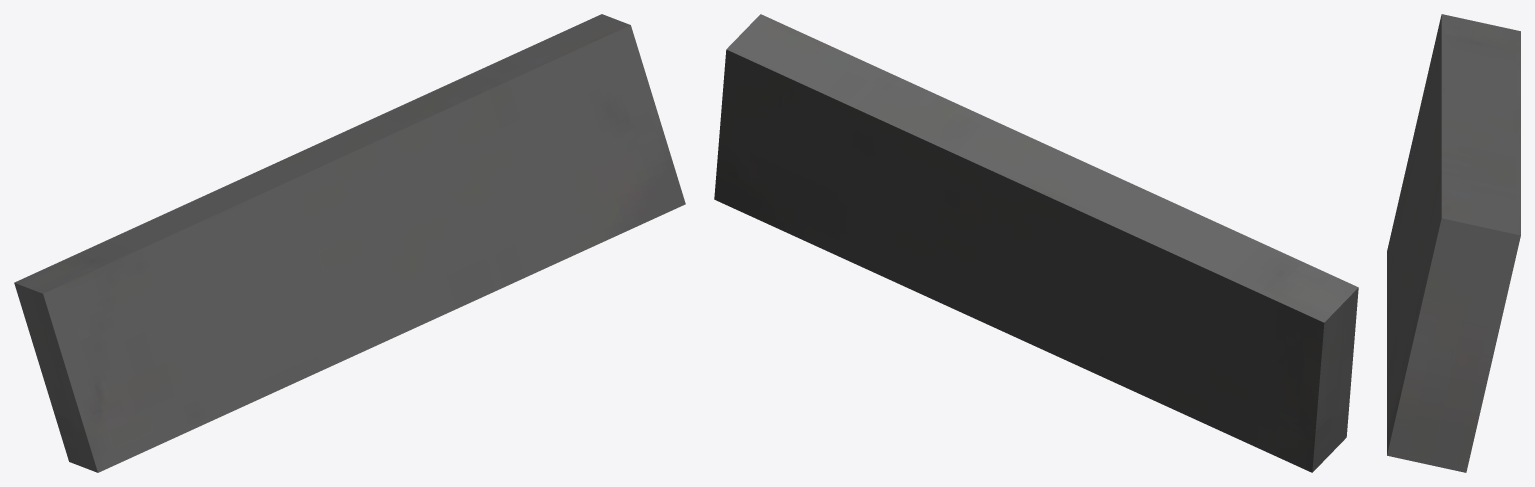
Rendered from fan_right__blade_4.glb.
3 views of the same model, side by side, from view 1: azimuth 30°, elevation 25°; view 2: azimuth 150°, elevation 25°; view 3: azimuth 270°, elevation 25° (orthographic). The views are drawn at different scales.
Parts seen in each view (by area): view 1: world; view 2: world; view 3: world.
Part boxes in pixels (x1,y1,x2,y2): world: (14,14,685,472); world: (714,14,1358,472); world: (1387,14,1520,472).
Bounding box in the file's own units: 0.0291 × 0.0138 × 0.00428.
1 material, 1 textured.
